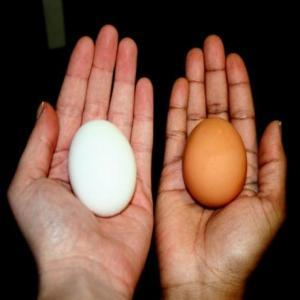Egg: (65, 120, 145, 234), (184, 109, 254, 219)
